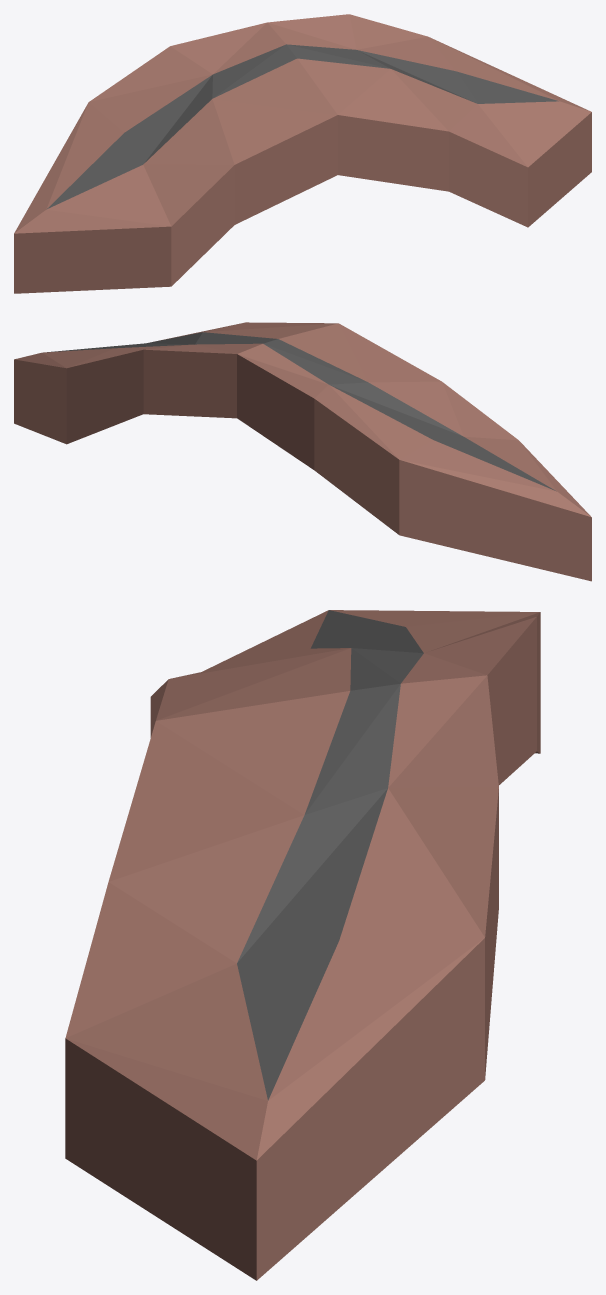
The model's file is Mouth 06.FBX.
3 renders of one model, top to bottom at view 1: azimuth 30°, elevation 25°; view 2: azimuth 150°, elevation 25°; view 3: azimuth 270°, elevation 25°, orthographic. The views are drawn at different scales.
Parts seen in each view (by area): view 1: Mouth 06; view 2: Mouth 06; view 3: Mouth 06.
Boxes of the visible parts, box(x1,y1,x2,y2) form: Mouth 06: box(14, 14, 591, 293); Mouth 06: box(14, 322, 591, 581); Mouth 06: box(65, 610, 540, 1280).
Size of the model in its own units: 7.78 by 2.29 by 2.86.
